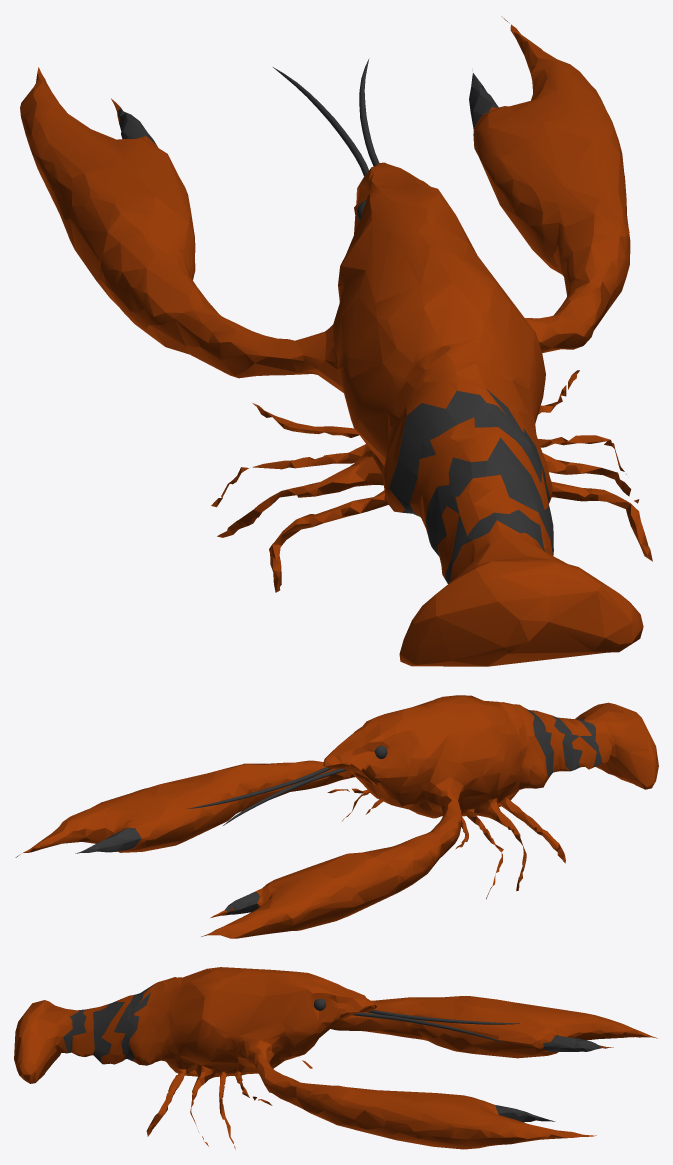
Rendered from Crayfish.glb.
3 views of the same model, one above another, from view 1: azimuth 30°, elevation 25°; view 2: azimuth 150°, elevation 25°; view 3: azimuth 270°, elevation 25° (orthographic). The views are drawn at different scales.
Parts seen in each view (by area): view 1: crayfish_work1; view 2: crayfish_work1, PM3D_Cylinder3D, PM3D_Cylinder3D_1; view 3: crayfish_work1, PM3D_Cylinder3D, PM3D_Cylinder3D_1.
Part boxes in pixels (left/top/right/bottom): crayfish_work1: left=20, top=16, right=652, bottom=666; crayfish_work1: left=15, top=695, right=658, bottom=938; PM3D_Cylinder3D: left=186, top=767, right=331, bottom=809; PM3D_Cylinder3D_1: left=223, top=768, right=346, bottom=825; crayfish_work1: left=14, top=967, right=657, bottom=1149; PM3D_Cylinder3D: left=352, top=1012, right=505, bottom=1043; PM3D_Cylinder3D_1: left=368, top=1009, right=519, bottom=1024.
Bounding box in the file's own units: 51.07 × 21.67 × 90.35.
